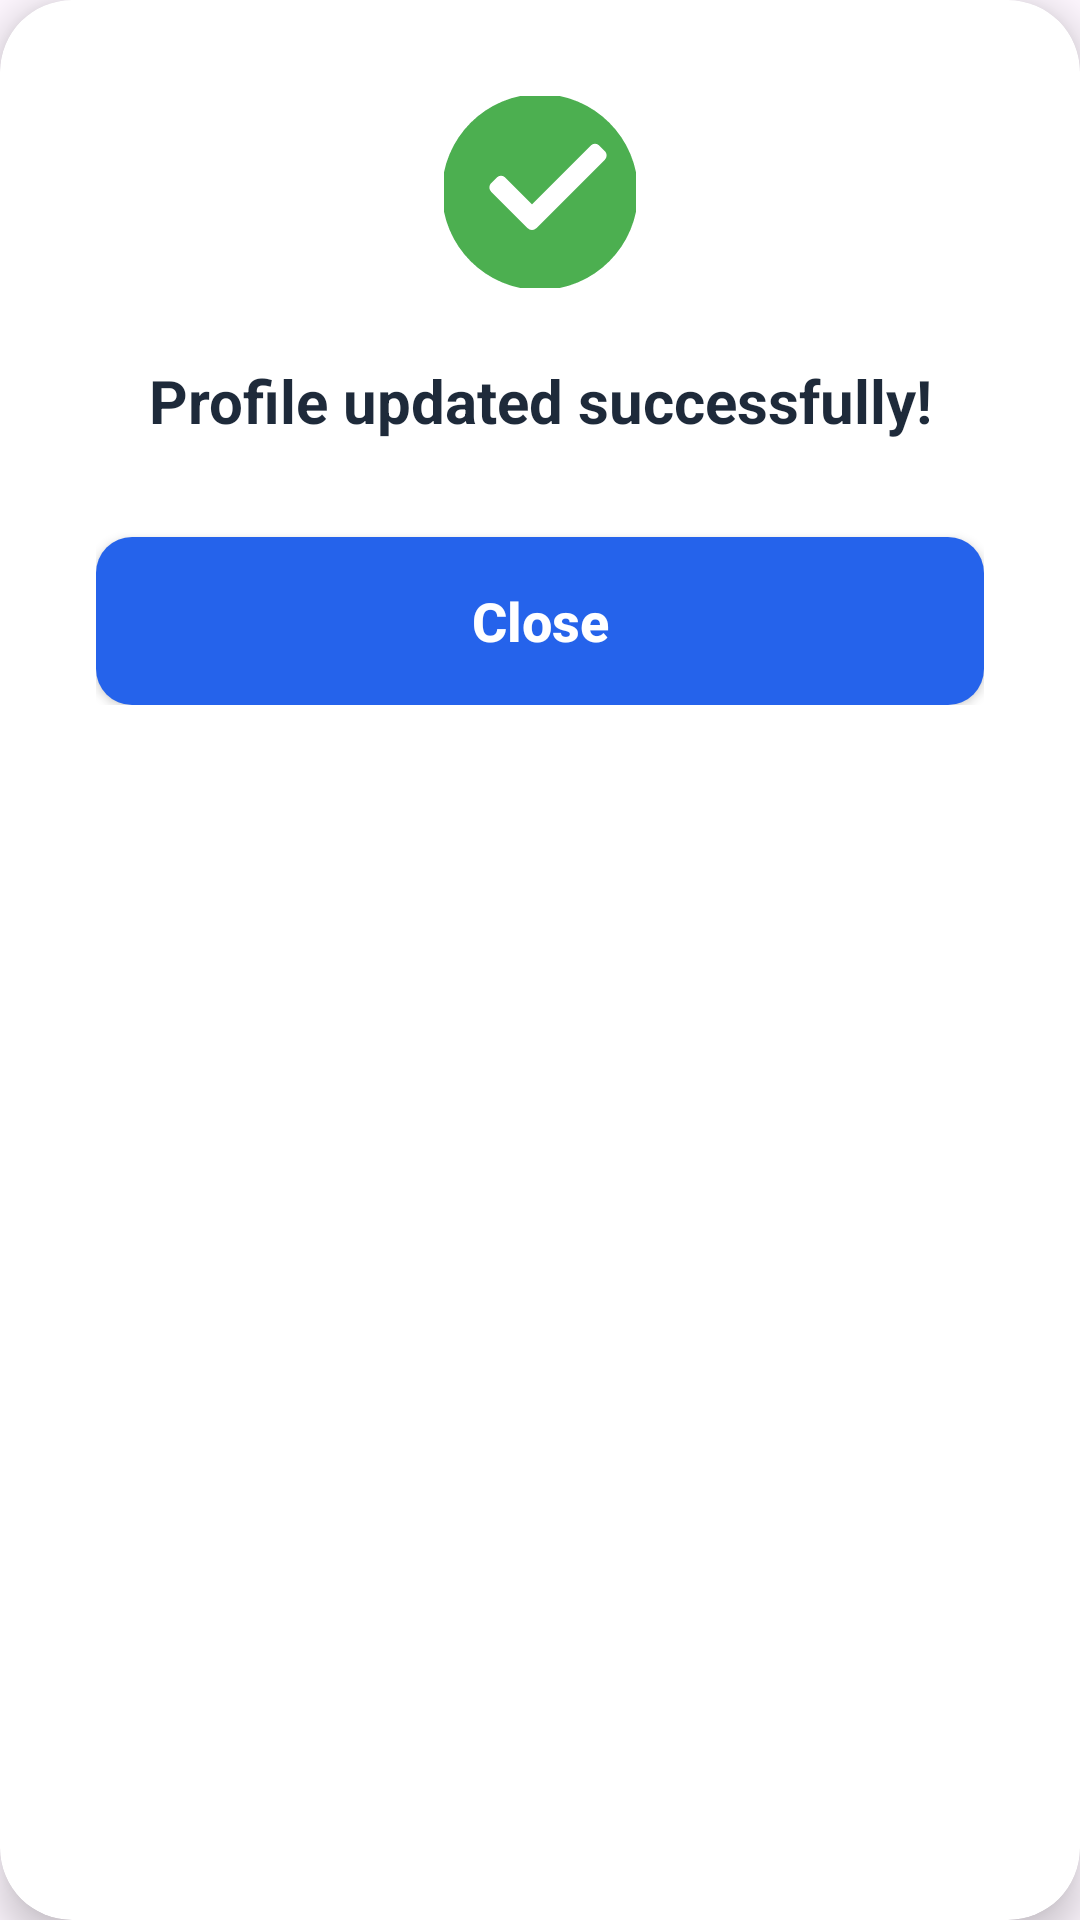

Where icons sit on this 1080w x 1920h app screen, as (x1, y1, x2, y2):
check circle: (444, 96, 636, 288)
